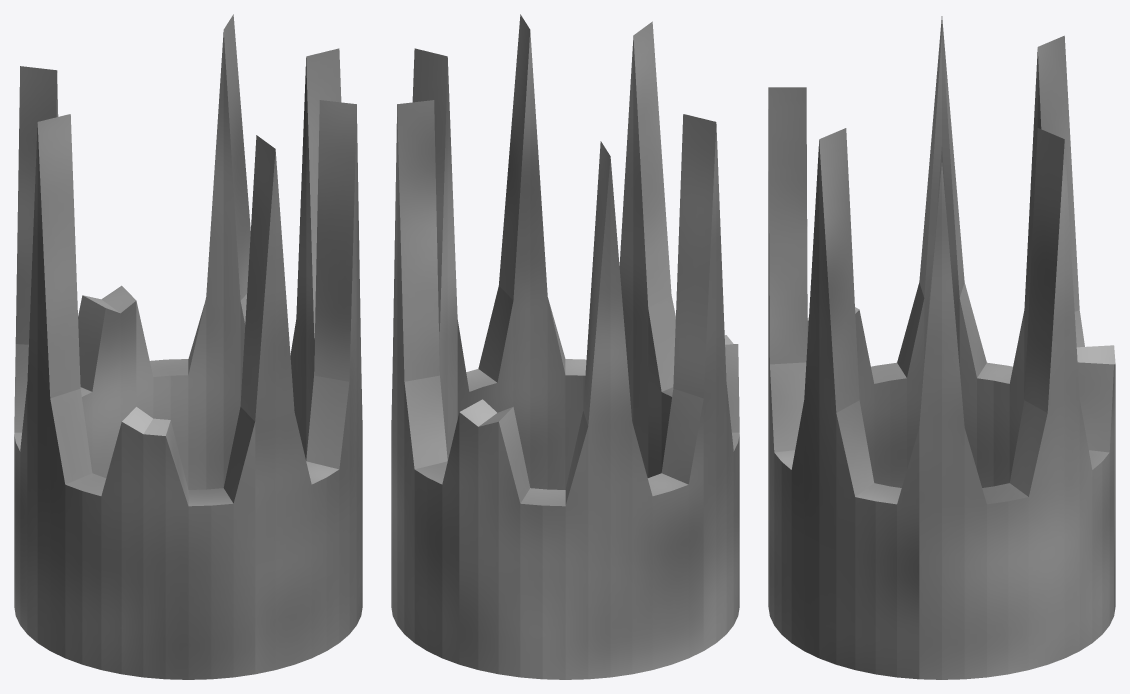
Rendered from broken-crown.glb.
3 views of the same model, side by side, from view 1: azimuth 30°, elevation 25°; view 2: azimuth 150°, elevation 25°; view 3: azimuth 270°, elevation 25° (orthographic).
Parts seen in each view (by area): view 1: broken-crown; view 2: broken-crown; view 3: broken-crown.
Boxes of the visible parts, <box> form: broken-crown: <box>14,14,362,679</box>; broken-crown: <box>391,14,739,679</box>; broken-crown: <box>768,16,1115,679</box>.
Size of the model in its own units: 1 by 1.65 by 1.
1 material, 1 textured.
